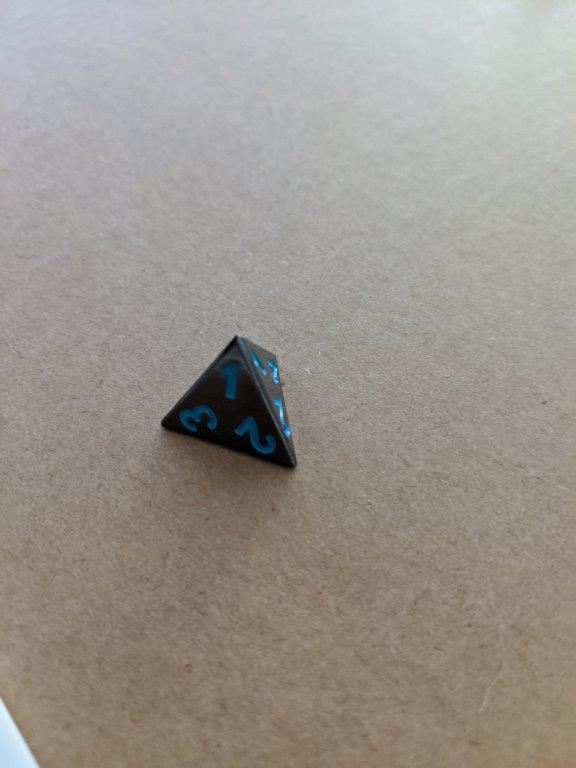d4-1: (157, 330, 301, 475)
